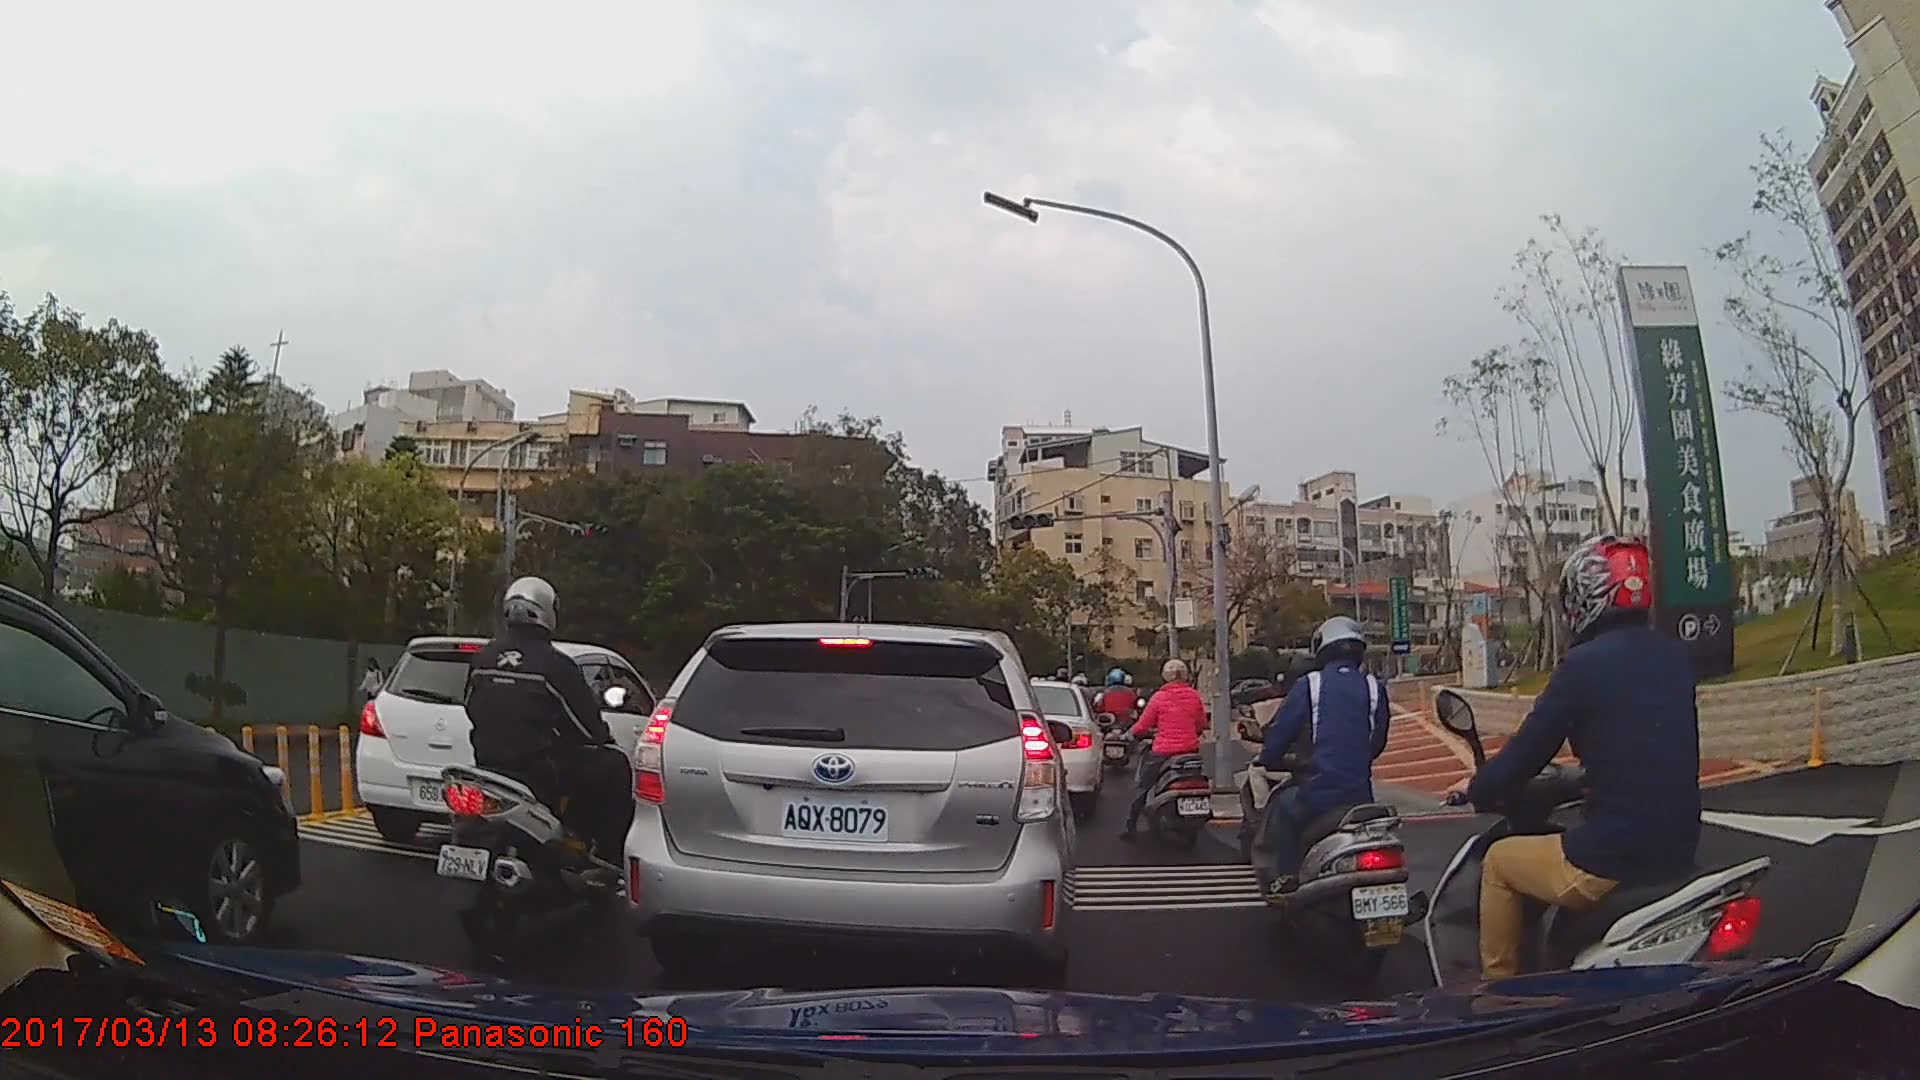pedestrian: (359, 657, 390, 734)
rider: (1430, 527, 1785, 1070), (434, 575, 637, 961), (1245, 614, 1418, 999), (1130, 661, 1218, 856), (1094, 666, 1142, 771)
vehicle: (620, 623, 1078, 1006), (0, 581, 301, 948), (353, 634, 678, 855), (998, 678, 1105, 812), (1219, 677, 1278, 706)
